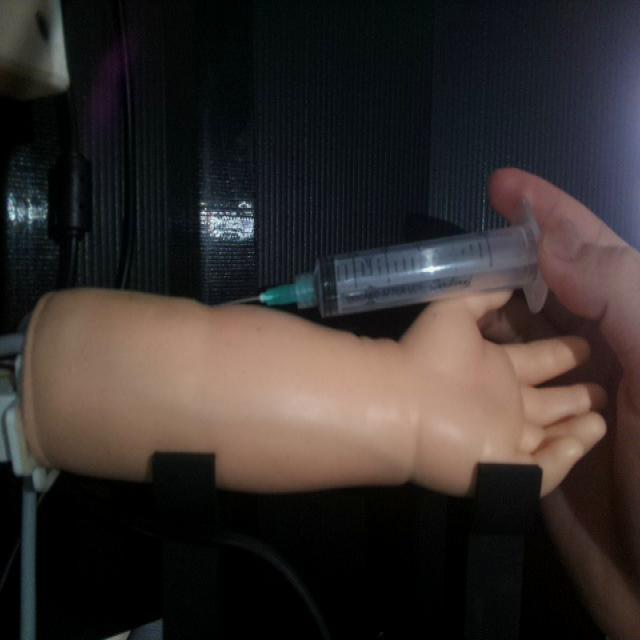Below 15 degrees: (224, 196, 550, 321)
